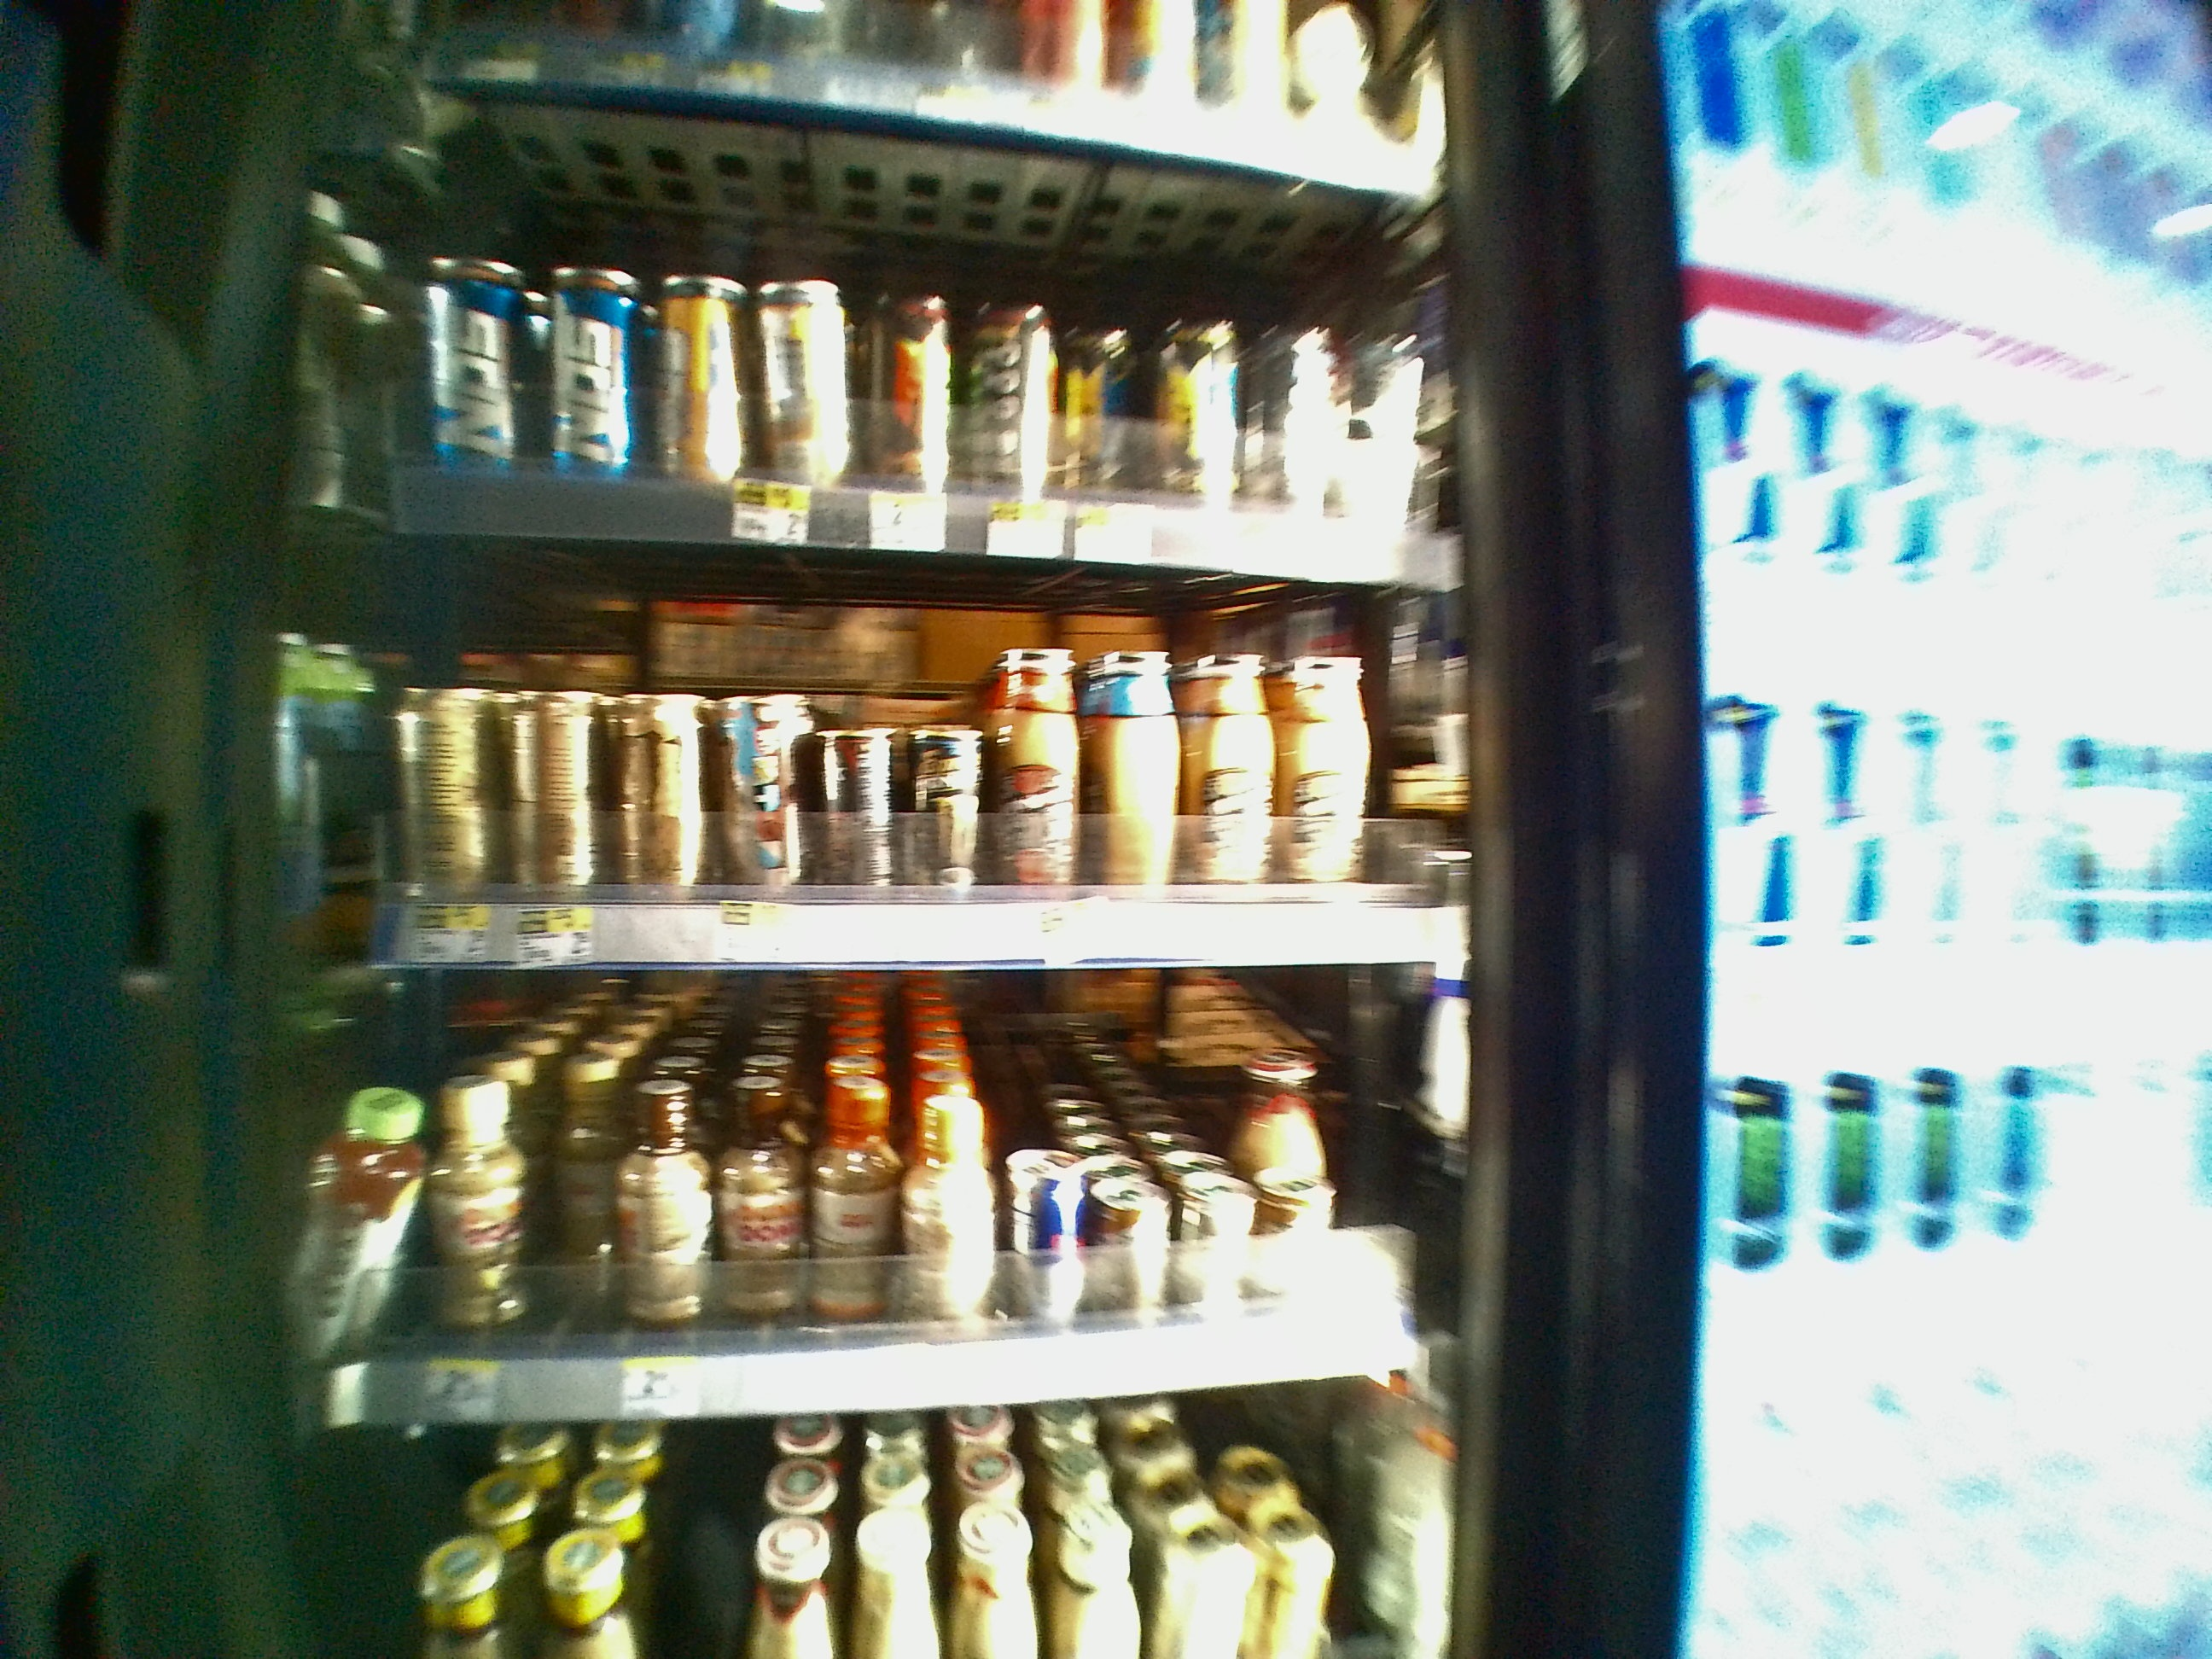shelf: (284, 967, 1475, 1384)
